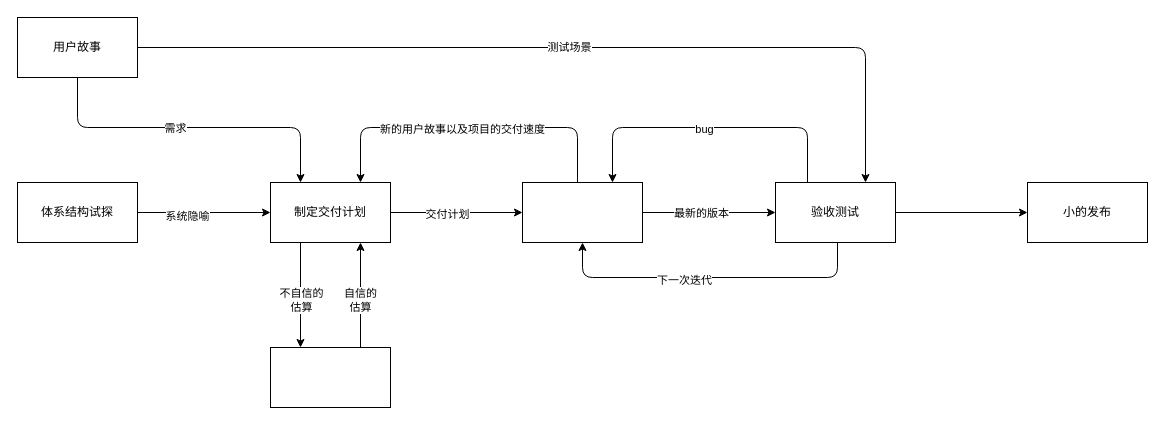
Image size: 1165x425. Some labels were removed from this diagram. The shapes that lost their labels are listed below. From the top down, each one's centre as x and y in pixels, then its label:
At (x=582, y=212): "迭代开发".
At (x=330, y=377): "难点试探".
